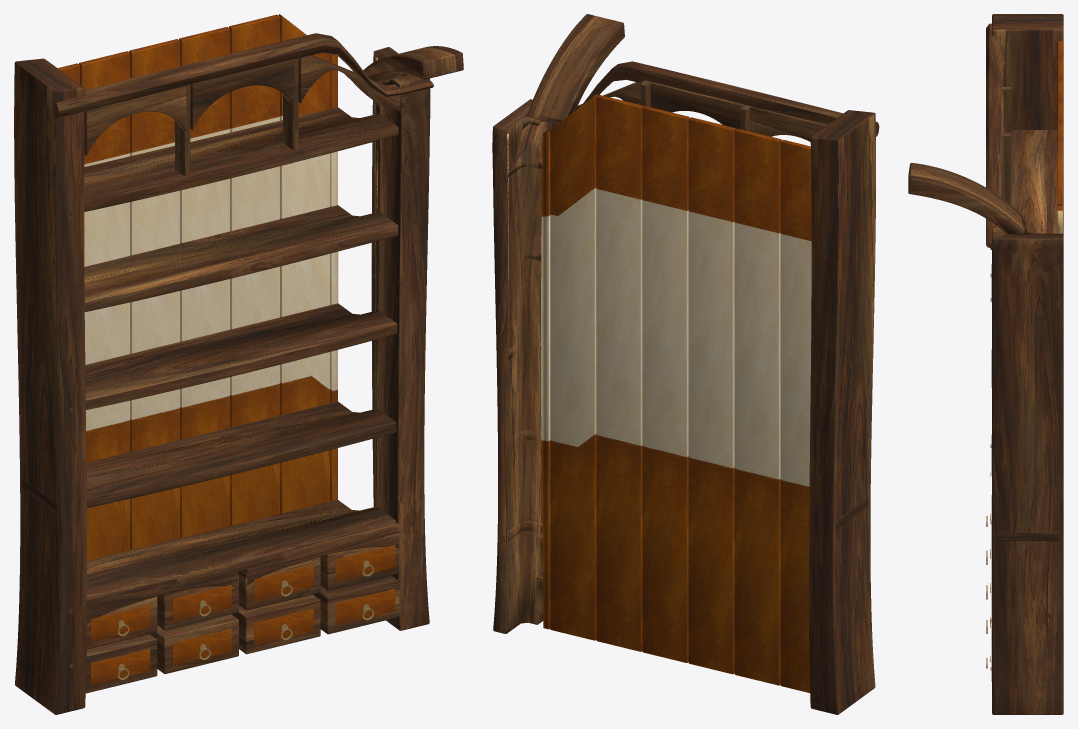
File: CM_SW13_FittedApothecaryCabinet.fbx
The picture shows the model from 3 angles, left to right: view 1: azimuth 30°, elevation 25°; view 2: azimuth 150°, elevation 25°; view 3: azimuth 270°, elevation 25°; orthographic projection. The views are drawn at different scales.
Visible parts, largest first — view 1: CM_SW13_FittedApothecaryCabinet; view 2: CM_SW13_FittedApothecaryCabinet; view 3: CM_SW13_FittedApothecaryCabinet.
Part boxes in pixels (x1,y1,x2,y2): CM_SW13_FittedApothecaryCabinet: (14, 14, 463, 714); CM_SW13_FittedApothecaryCabinet: (492, 14, 879, 714); CM_SW13_FittedApothecaryCabinet: (908, 14, 1063, 714).
Size of the model in its own units: 1.85 by 2.93 by 0.7591.
